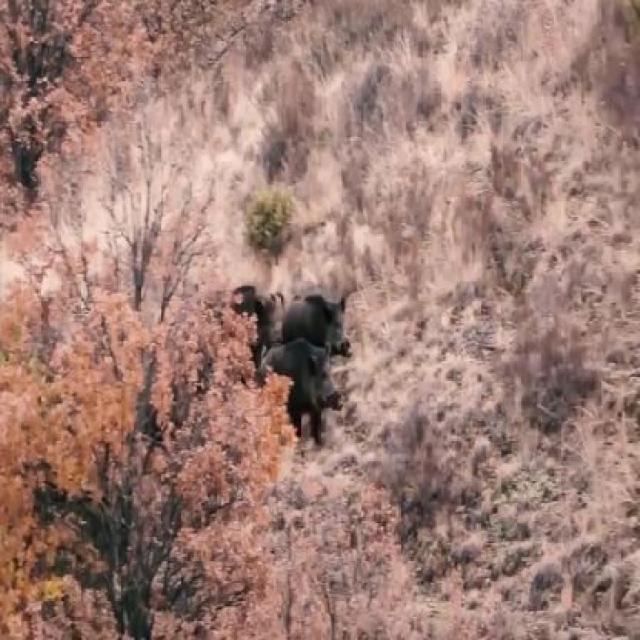pig: (280, 277, 369, 364), (274, 350, 351, 426), (234, 264, 279, 348)
